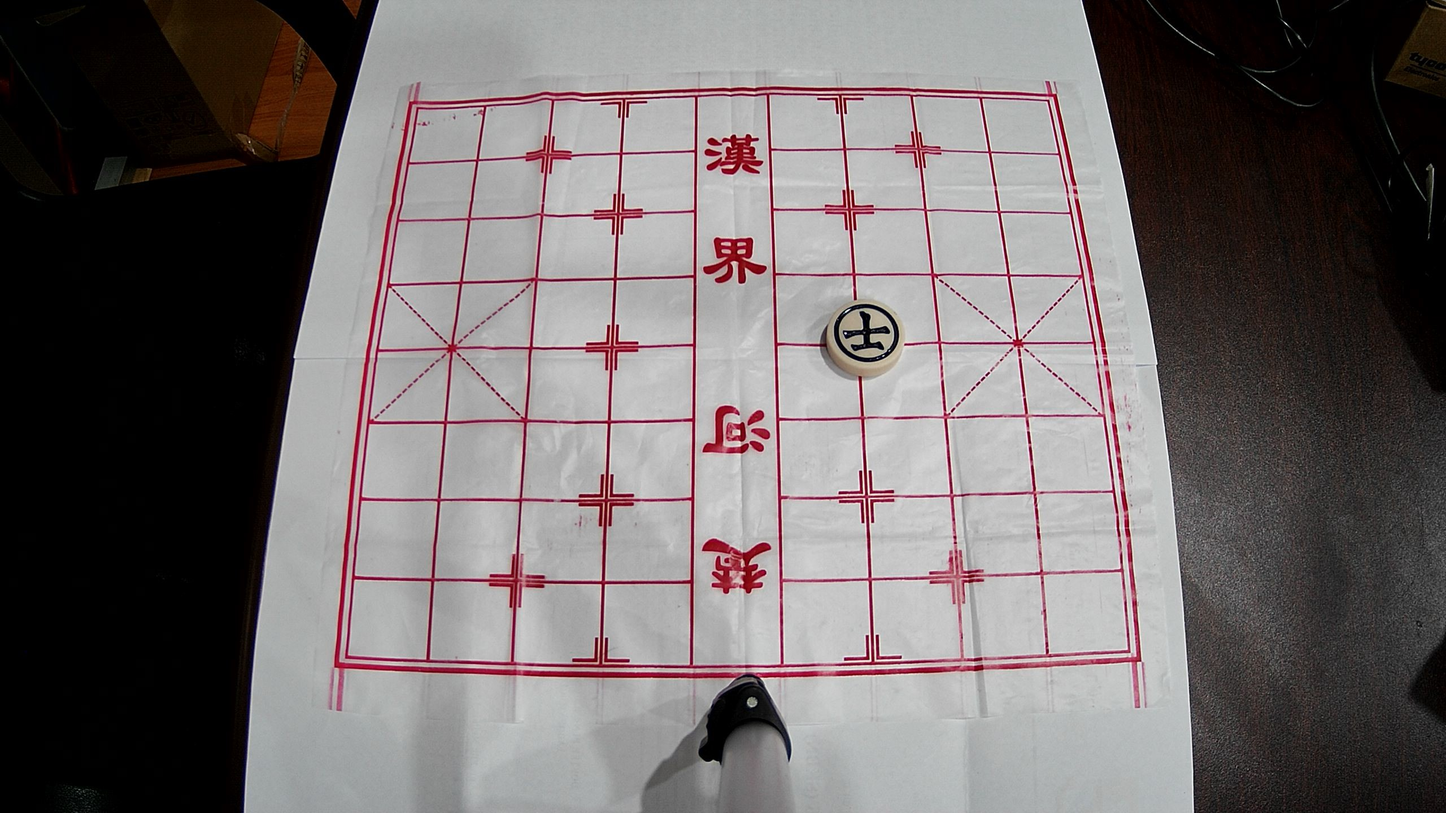Black-Guard: (826, 299, 905, 376)
